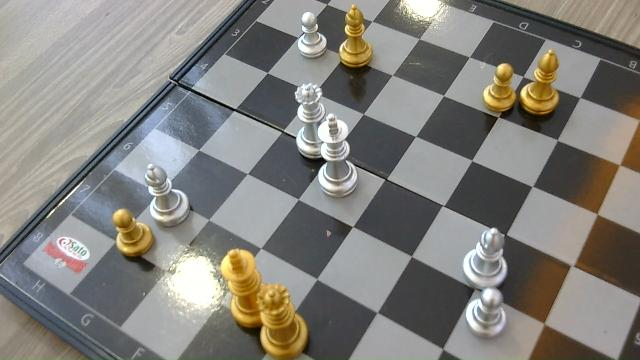black_bishop: (519, 48, 562, 117), (338, 4, 374, 69)
black_king: (221, 248, 259, 328)
black_pawn: (111, 209, 148, 259), (483, 62, 517, 115)
black_queen: (257, 286, 306, 355)
white_bishop: (144, 162, 190, 224), (464, 225, 510, 285), (461, 284, 462, 290)
white_king: (320, 112, 358, 198)
white_pawn: (464, 287, 508, 339), (296, 11, 327, 60)
white_queen: (295, 81, 322, 158)
